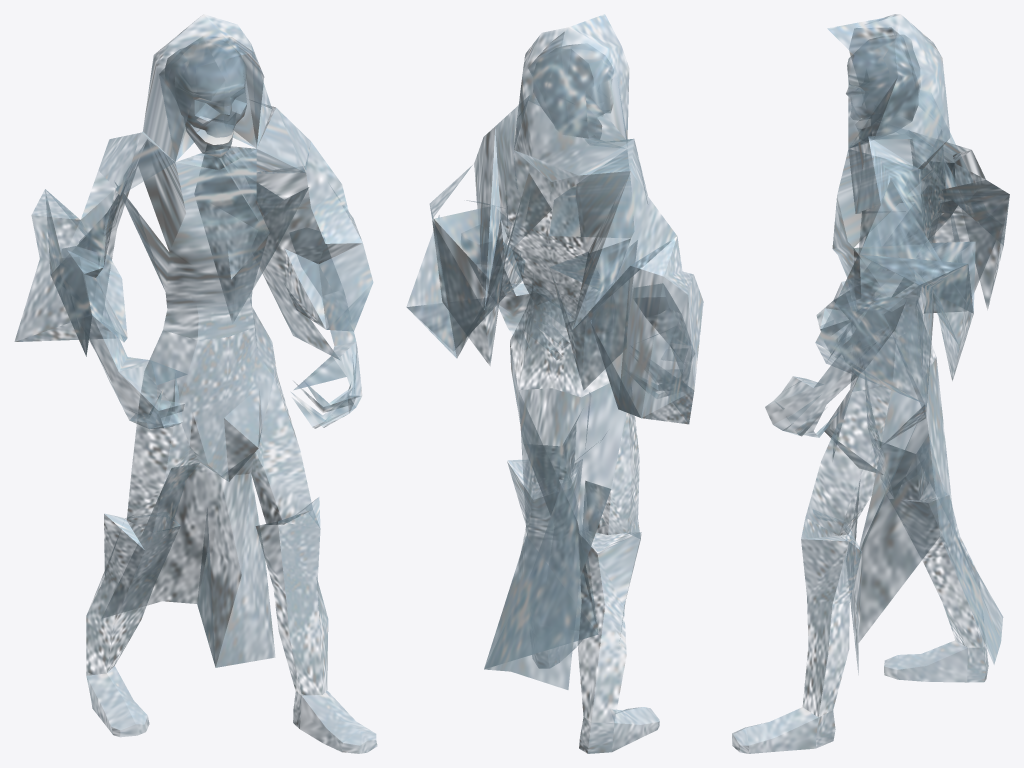
The model's file is mm9_deco_icelich.glb.
The picture shows the model from 3 angles, left to right: view 1: azimuth 30°, elevation 25°; view 2: azimuth 150°, elevation 25°; view 3: azimuth 270°, elevation 25°; orthographic projection. The views are drawn at different scales.
Visible parts, largest first — view 1: Icelich; view 2: Icelich; view 3: Icelich.
Boxes of the visible parts, bbox=[...] form: Icelich: bbox=[14, 14, 377, 753]; Icelich: bbox=[406, 14, 703, 753]; Icelich: bbox=[732, 14, 1009, 753].
Bounding box in the file's own units: 1.06 × 2.26 × 0.8185.
1 material, 1 textured.
